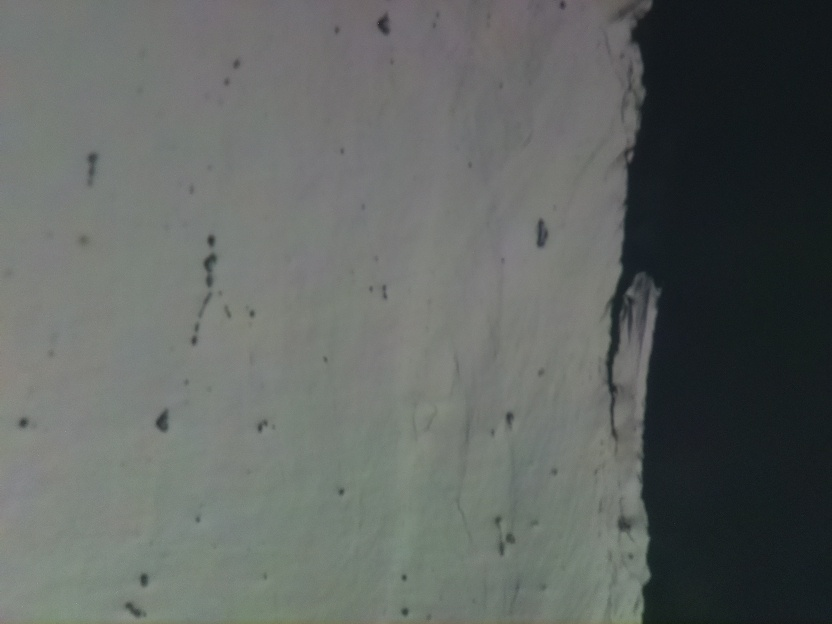crack: (608, 0, 832, 624)
